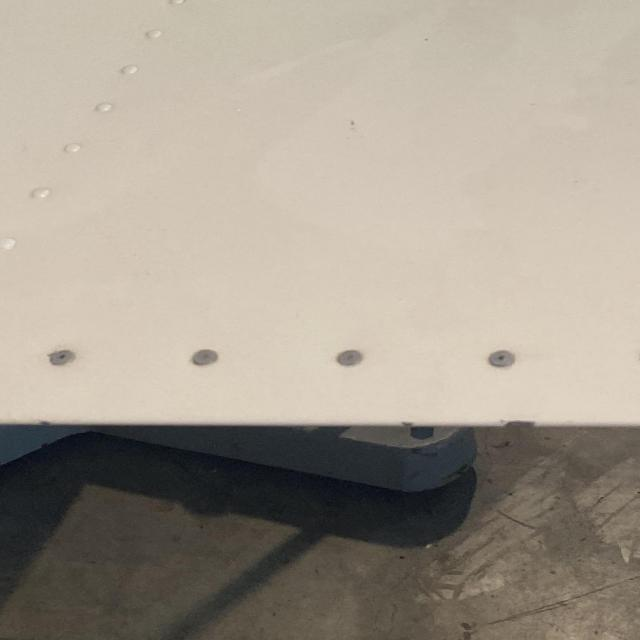Paint-off: (503, 419, 538, 427)
